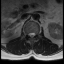CCS_normal: (31, 30, 32, 40)
LFS_normal: (35, 31, 37, 37)
LLS_normal: (32, 31, 35, 38)
RFS_stenosis: (26, 30, 29, 37)
RLS_normal: (29, 31, 31, 38)
